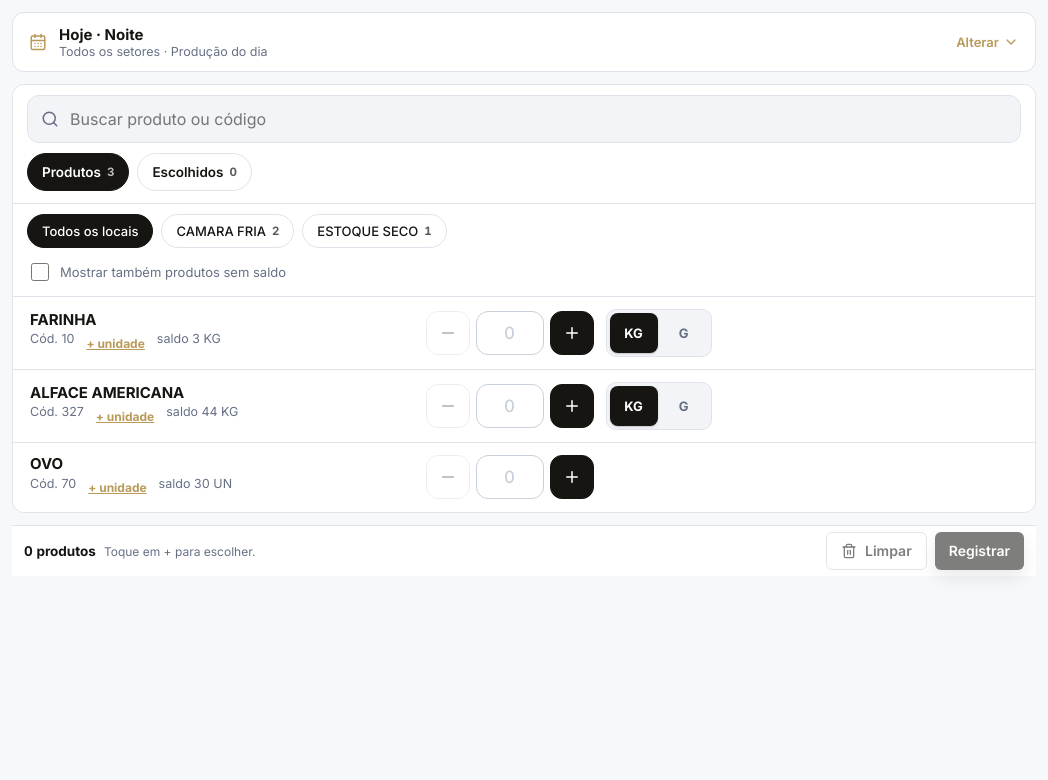
Test case: FormularioDaRequisicao › apagar a quantidade para redigitar mantém a unidade escolhida
The width and height of the screenshot is (1048, 780).
Step 1. Type "500" into the field with placeholder "0" in the row of "FARINHA" → (510, 333), box [476,311,544,355]
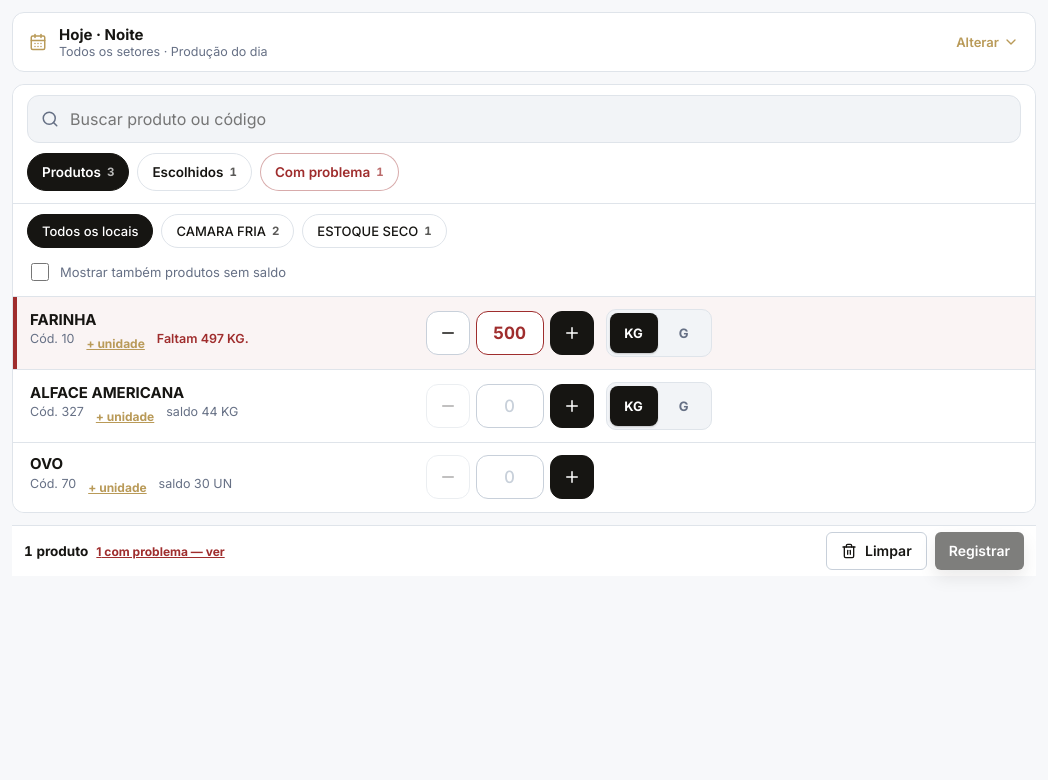
Step 2. Click the button "G" in the row of "FARINHA" → (684, 333), box [660,313,708,353]
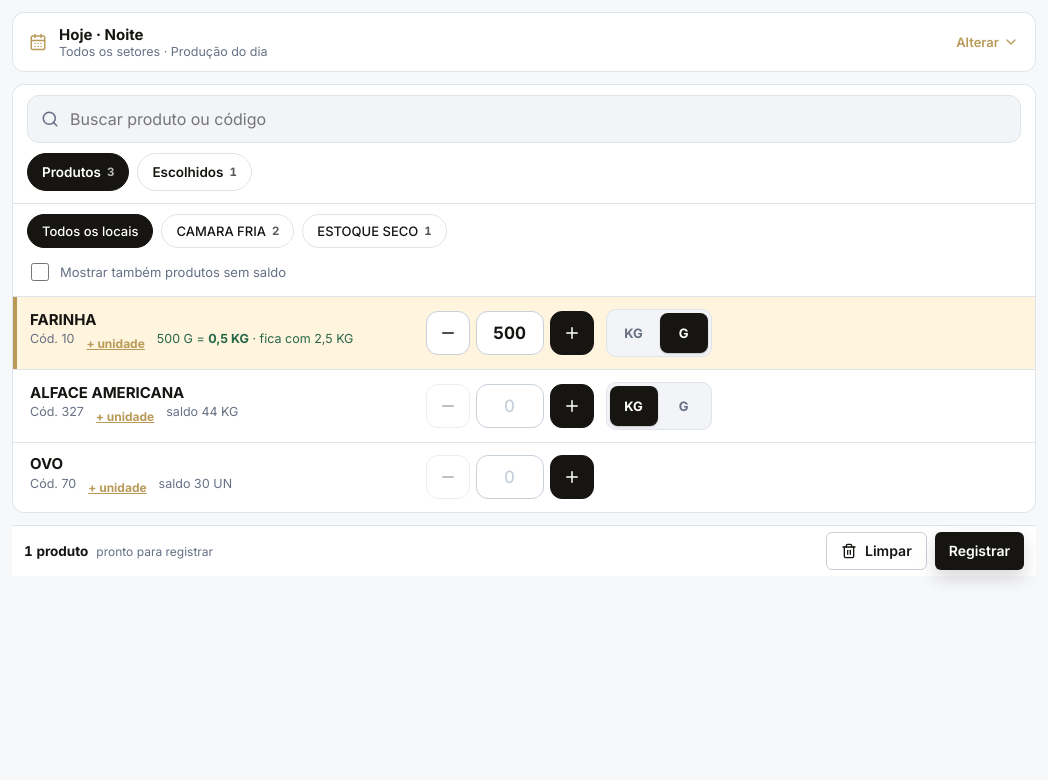
Step 3. Replace the text in the field named "Quantidade de FARINHA" with "300" → (510, 333), box [476,311,544,355]
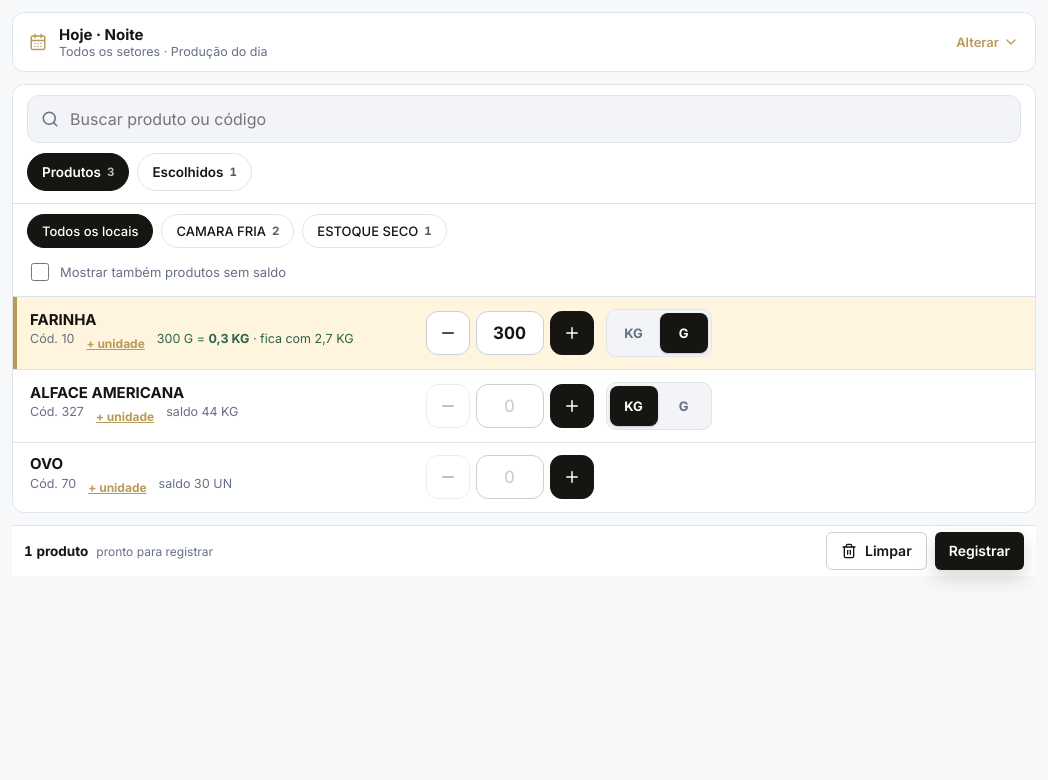
Expected: the text "0,3 KG" is shown, [208,331,249,346]
